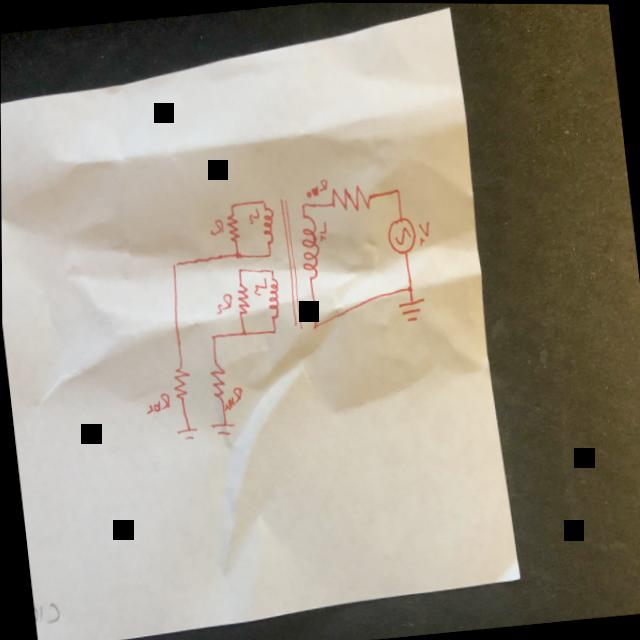ground: (395, 293, 426, 322), (208, 419, 235, 437), (174, 425, 198, 441)
junction: (169, 257, 179, 269), (231, 248, 241, 259), (239, 326, 246, 337), (258, 195, 265, 205), (392, 185, 399, 194), (405, 282, 412, 291), (208, 332, 215, 341), (235, 265, 242, 274), (227, 201, 234, 210), (269, 325, 276, 334), (267, 267, 274, 276), (264, 248, 271, 257), (299, 200, 306, 209), (311, 319, 318, 328)
resistor: (329, 181, 371, 212), (170, 360, 192, 401), (206, 359, 226, 402), (231, 280, 249, 316), (224, 211, 239, 242)
source: (383, 213, 417, 254)
text: (142, 390, 169, 414), (220, 383, 243, 410), (303, 176, 328, 196), (213, 290, 233, 313), (414, 218, 430, 244), (251, 275, 267, 295), (207, 216, 223, 235), (245, 204, 259, 224), (315, 218, 327, 241)
transformer: (254, 188, 325, 335)
